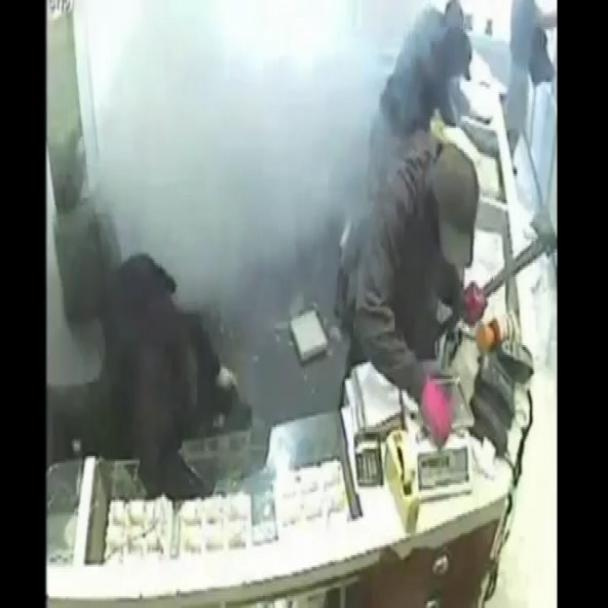smoke: (57, 0, 516, 504)
